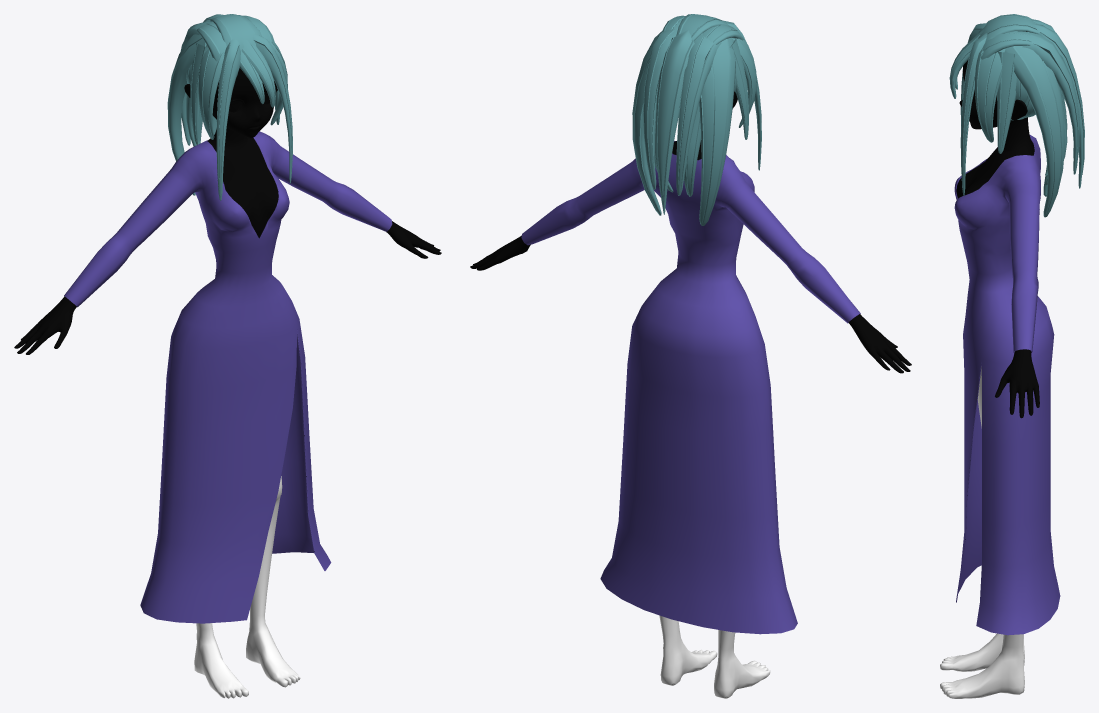
Rendered from YukiOnna_low.fbx.
3 views of the same model, side by side, from view 1: azimuth 30°, elevation 25°; view 2: azimuth 150°, elevation 25°; view 3: azimuth 270°, elevation 25° (orthographic). The views are drawn at different scales.
Parts seen in each view (by area): view 1: dress_low, female_low, pCone7_low, pCone6_low, pCone8_low, pCone15_low, pCone14_low, pCone9_low, pCone16_low; view 2: dress_low, female_low, pCone6_low, pCone4_low, pCone5_low, pCone3_low, pCone9_low, pCone8_low, pCone15_low, pCone14_low; view 3: dress_low, female_low, pCone6_low, pCone4_low, pCone8_low, pCone7_low, pCone9_low, pCone5_low, pCone15_low, pCone14_low, pCone16_low, pCone3_low.
Part boxes in pixels (<box>): dress_low: <box>64,131,392,623</box>; female_low: <box>14,68,441,698</box>; pCone7_low: <box>216,34,292,200</box>; pCone6_low: <box>167,22,212,195</box>; pCone8_low: <box>198,41,287,139</box>; pCone15_low: <box>210,14,262,51</box>; pCone14_low: <box>197,15,275,62</box>; pCone9_low: <box>190,43,279,144</box>; pCone16_low: <box>241,39,275,107</box>; dress_low: <box>521,141,860,634</box>; female_low: <box>470,91,911,698</box>; pCone6_low: <box>632,30,735,225</box>; pCone4_low: <box>643,29,721,195</box>; pCone5_low: <box>655,29,694,214</box>; pCone3_low: <box>654,103,701,196</box>; pCone9_low: <box>662,30,748,139</box>; pCone8_low: <box>732,34,756,127</box>; pCone15_low: <box>676,14,728,40</box>; pCone14_low: <box>662,15,744,44</box>; dress_low: <box>954,135,1060,635</box>; female_low: <box>940,31,1039,698</box>; pCone6_low: <box>1004,32,1064,217</box>; pCone4_low: <box>1022,19,1079,174</box>; pCone8_low: <box>974,48,1005,142</box>; pCone7_low: <box>960,23,987,195</box>; pCone9_low: <box>997,52,1017,153</box>; pCone5_low: <box>1032,23,1084,188</box>; pCone15_low: <box>978,15,1039,42</box>; pCone14_low: <box>981,14,1033,59</box>; pCone16_low: <box>949,29,984,98</box>; pCone3_low: <box>1045,87,1067,185</box>.
Bounding box in the file's own units: 155 × 228 × 45.17.
